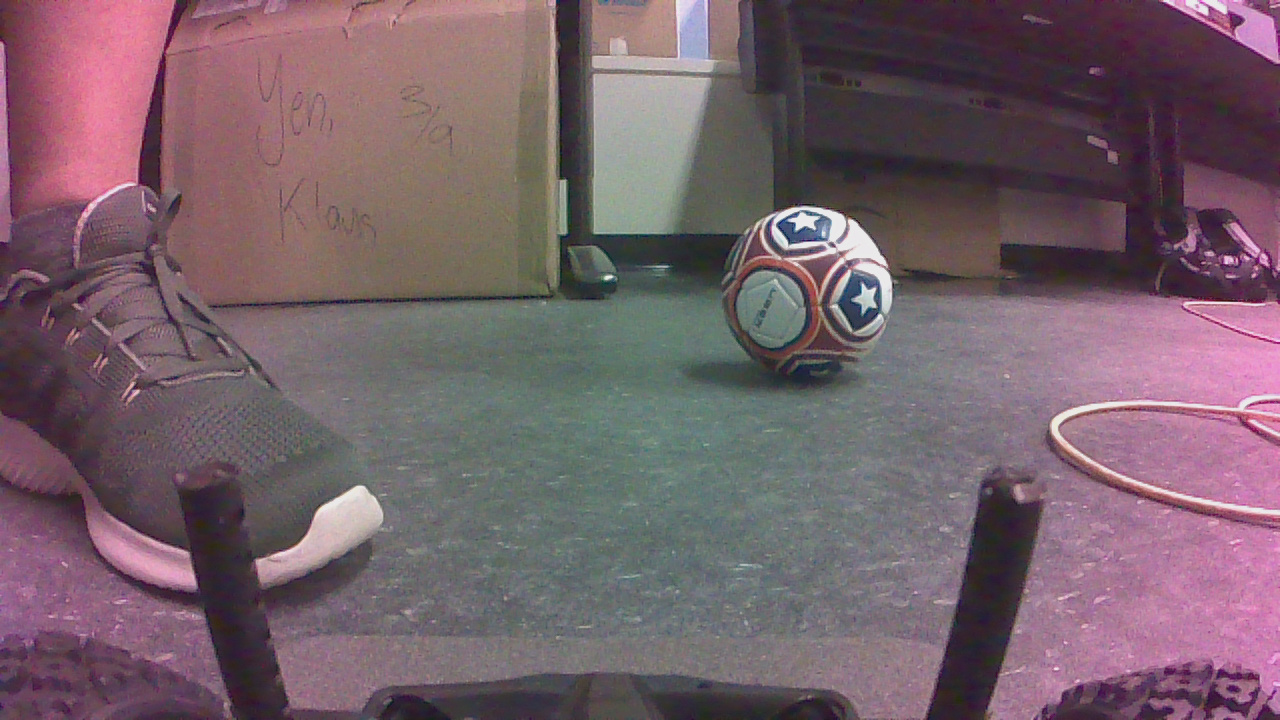ball: (713, 211, 901, 389)
